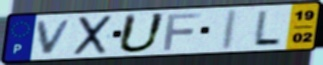F: (161, 11, 203, 52)
I: (218, 8, 240, 52)
L: (250, 9, 283, 46)
U: (115, 12, 169, 55)
V: (35, 18, 76, 56)
X: (71, 14, 115, 57)
